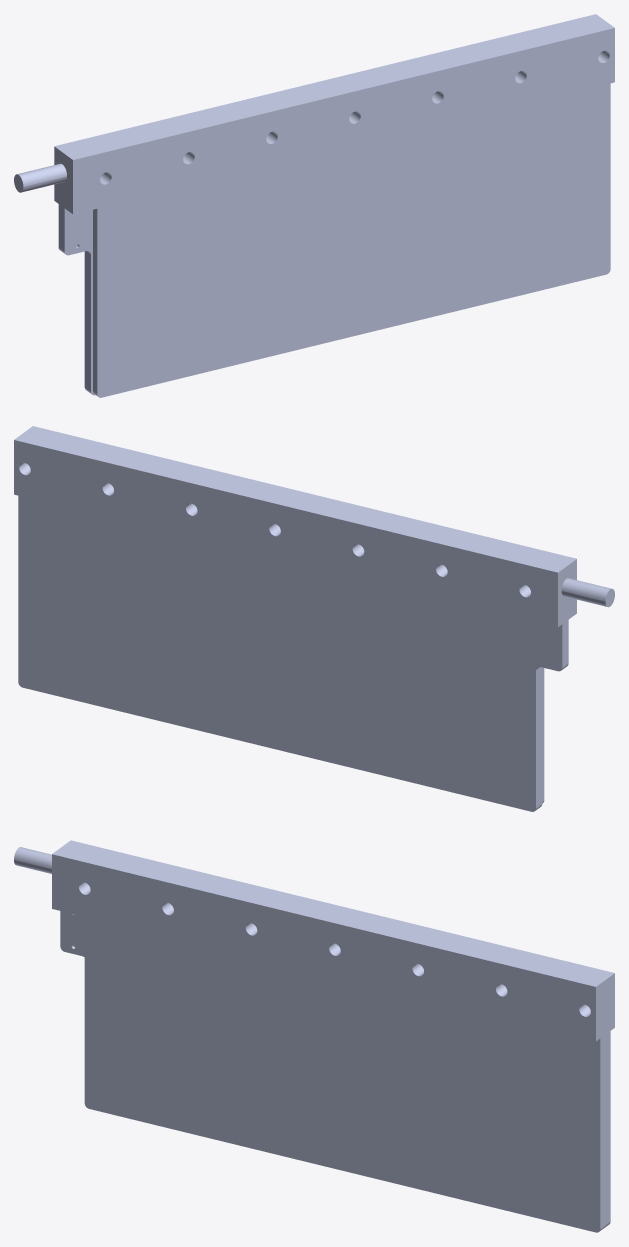
The model's file is MUC-6.glb.
3 renders of one model, top to bottom at view 1: azimuth 30°, elevation 25°; view 2: azimuth 150°, elevation 25°; view 3: azimuth 330°, elevation 25°, orthographic.
Parts seen in each view (by area): view 1: MUC-6_node_1; view 2: MUC-6_node_1; view 3: MUC-6_node_1.
Part boxes in pixels (x1,y1,x2,y2): MUC-6_node_1: (14,14,614,397); MUC-6_node_1: (14,426,614,811); MUC-6_node_1: (14,840,614,1232).
Size of the model in its own units: 268 by 109 by 15.
